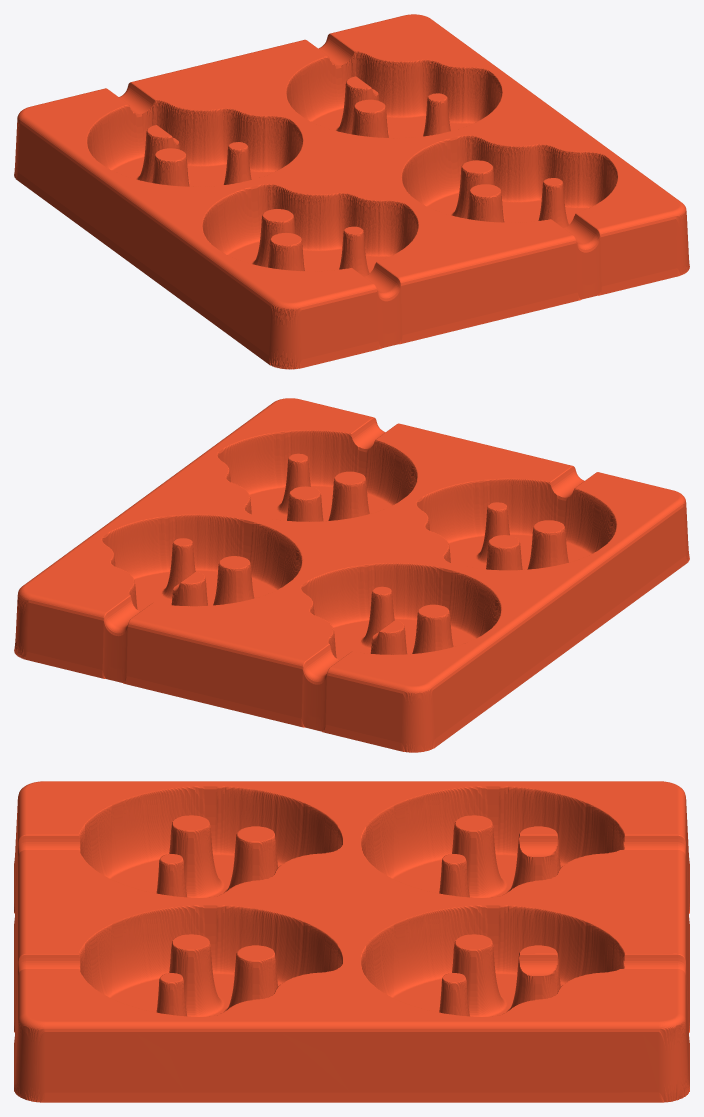
File: mold.glb
3 renders of one model, top to bottom at view 1: azimuth 30°, elevation 25°; view 2: azimuth 150°, elevation 25°; view 3: azimuth 270°, elevation 25°, orthographic. The views are drawn at different scales.
Parts seen in each view (by area): view 1: geometry_0; view 2: geometry_0; view 3: geometry_0.
Boxes of the visible parts, left/top/right/bottom form: geometry_0: left=14, top=14, right=689, bottom=369; geometry_0: left=14, top=398, right=689, bottom=752; geometry_0: left=14, top=781, right=689, bottom=1102.
Size of the model in its own units: 0.1721 by 0.0245 by 0.1968.
